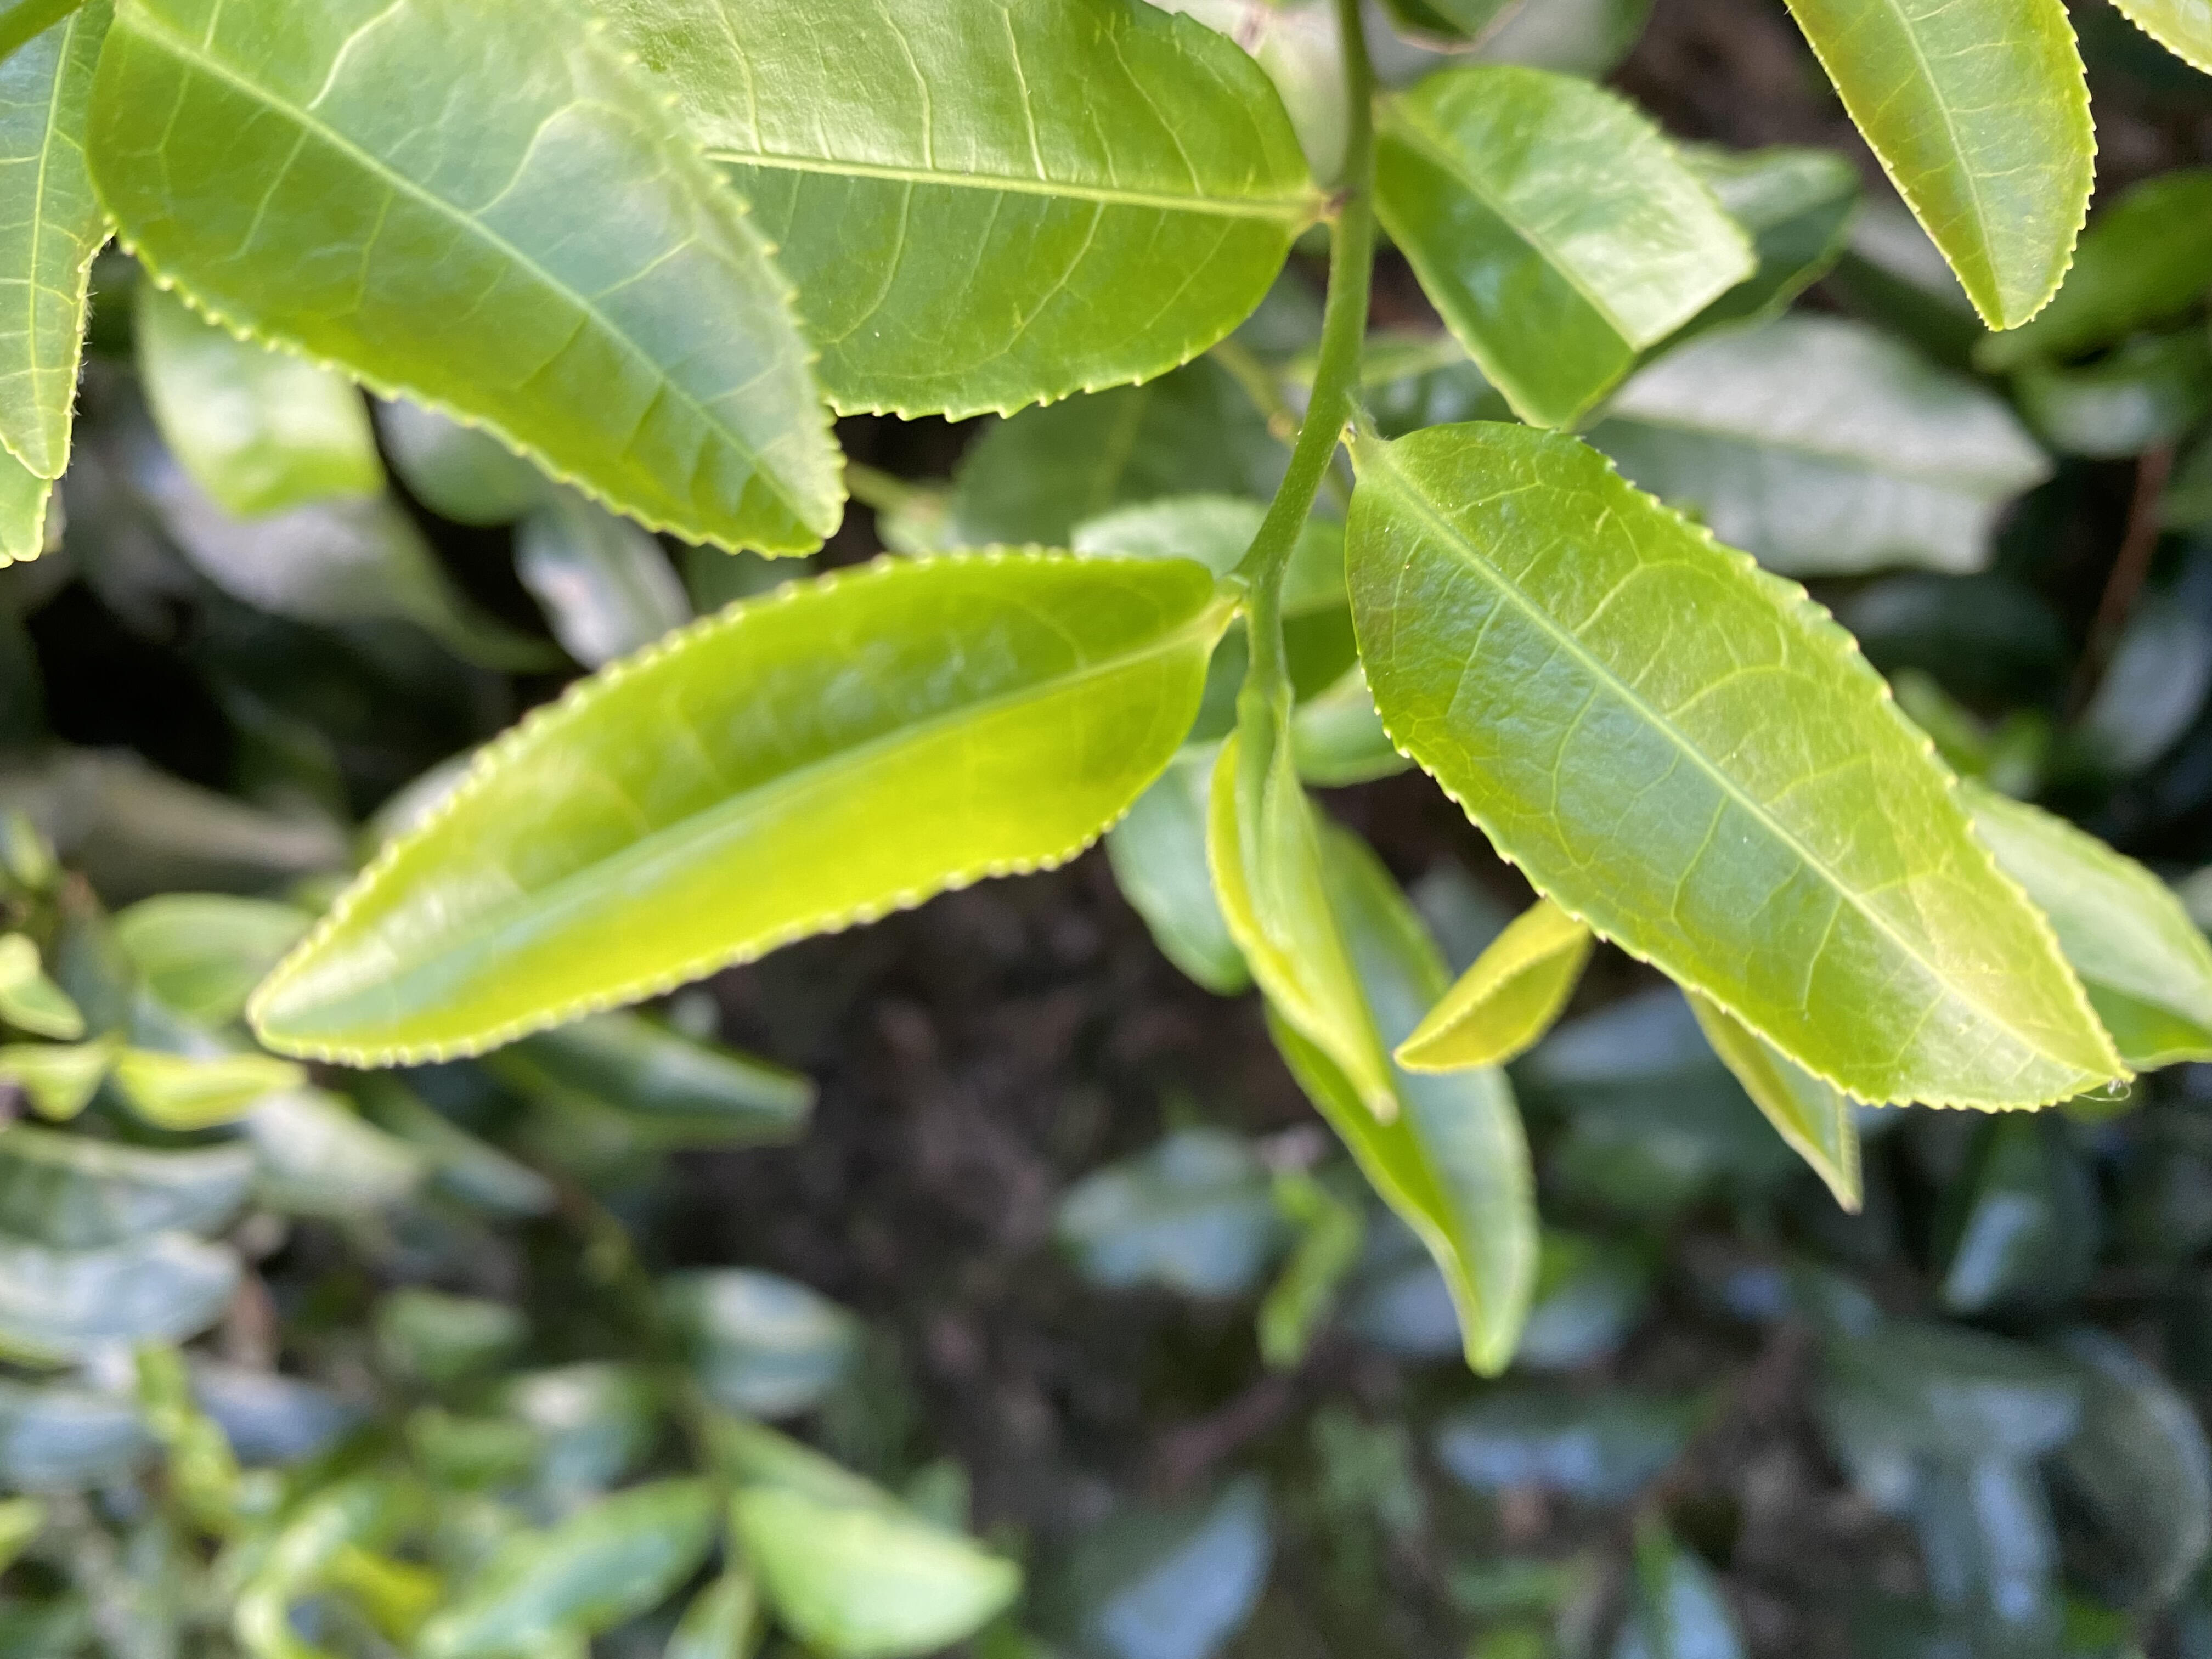chihuo_high: (1371, 61, 1761, 429)
healthy: (1343, 418, 2135, 1121), (244, 544, 1226, 1072), (80, 3, 848, 559), (1780, 2, 2101, 335)
